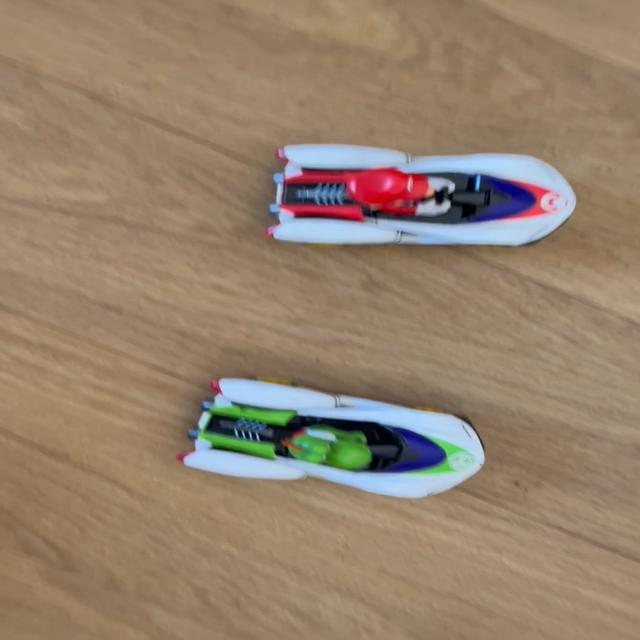mario: (236, 133, 598, 254)
yoshi: (162, 368, 508, 508)
